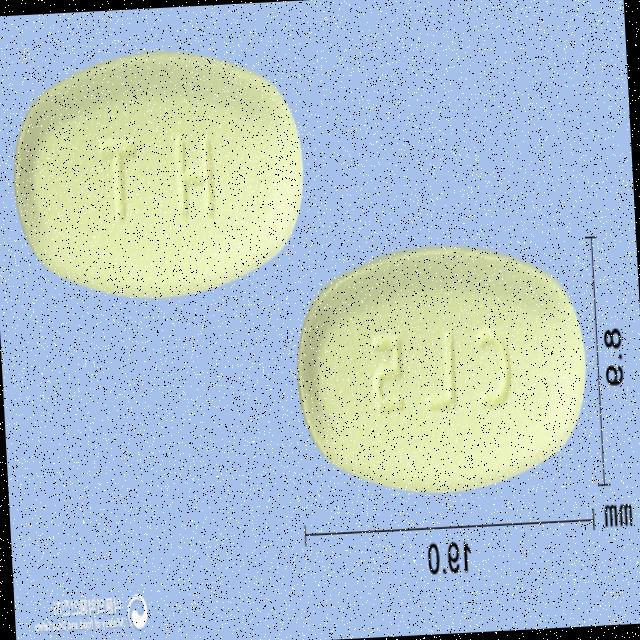Clathrocin: (5, 40, 313, 307), (288, 236, 592, 502)
